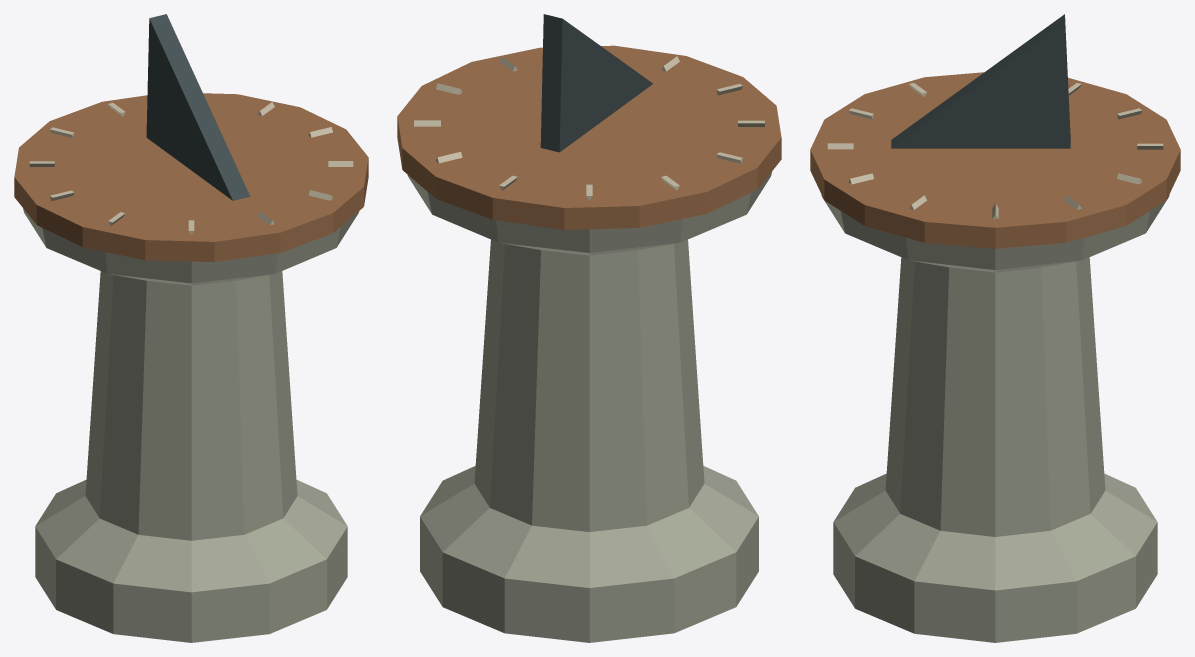
The model's file is decor_sundial.glb.
3 renders of one model, left to right at view 1: azimuth 30°, elevation 25°; view 2: azimuth 150°, elevation 25°; view 3: azimuth 270°, elevation 25°, orthographic. The views are drawn at different scales.
Visible parts, largest first — view 1: geometry; view 2: geometry; view 3: geometry.
Boxes of the visible parts, x1=… form: geometry: x1=14, y1=14, x2=368, y2=642; geometry: x1=397, y1=14, x2=781, y2=642; geometry: x1=810, y1=14, x2=1180, y2=642.
Size of the model in its own units: 0.64 by 1.06 by 0.64.
